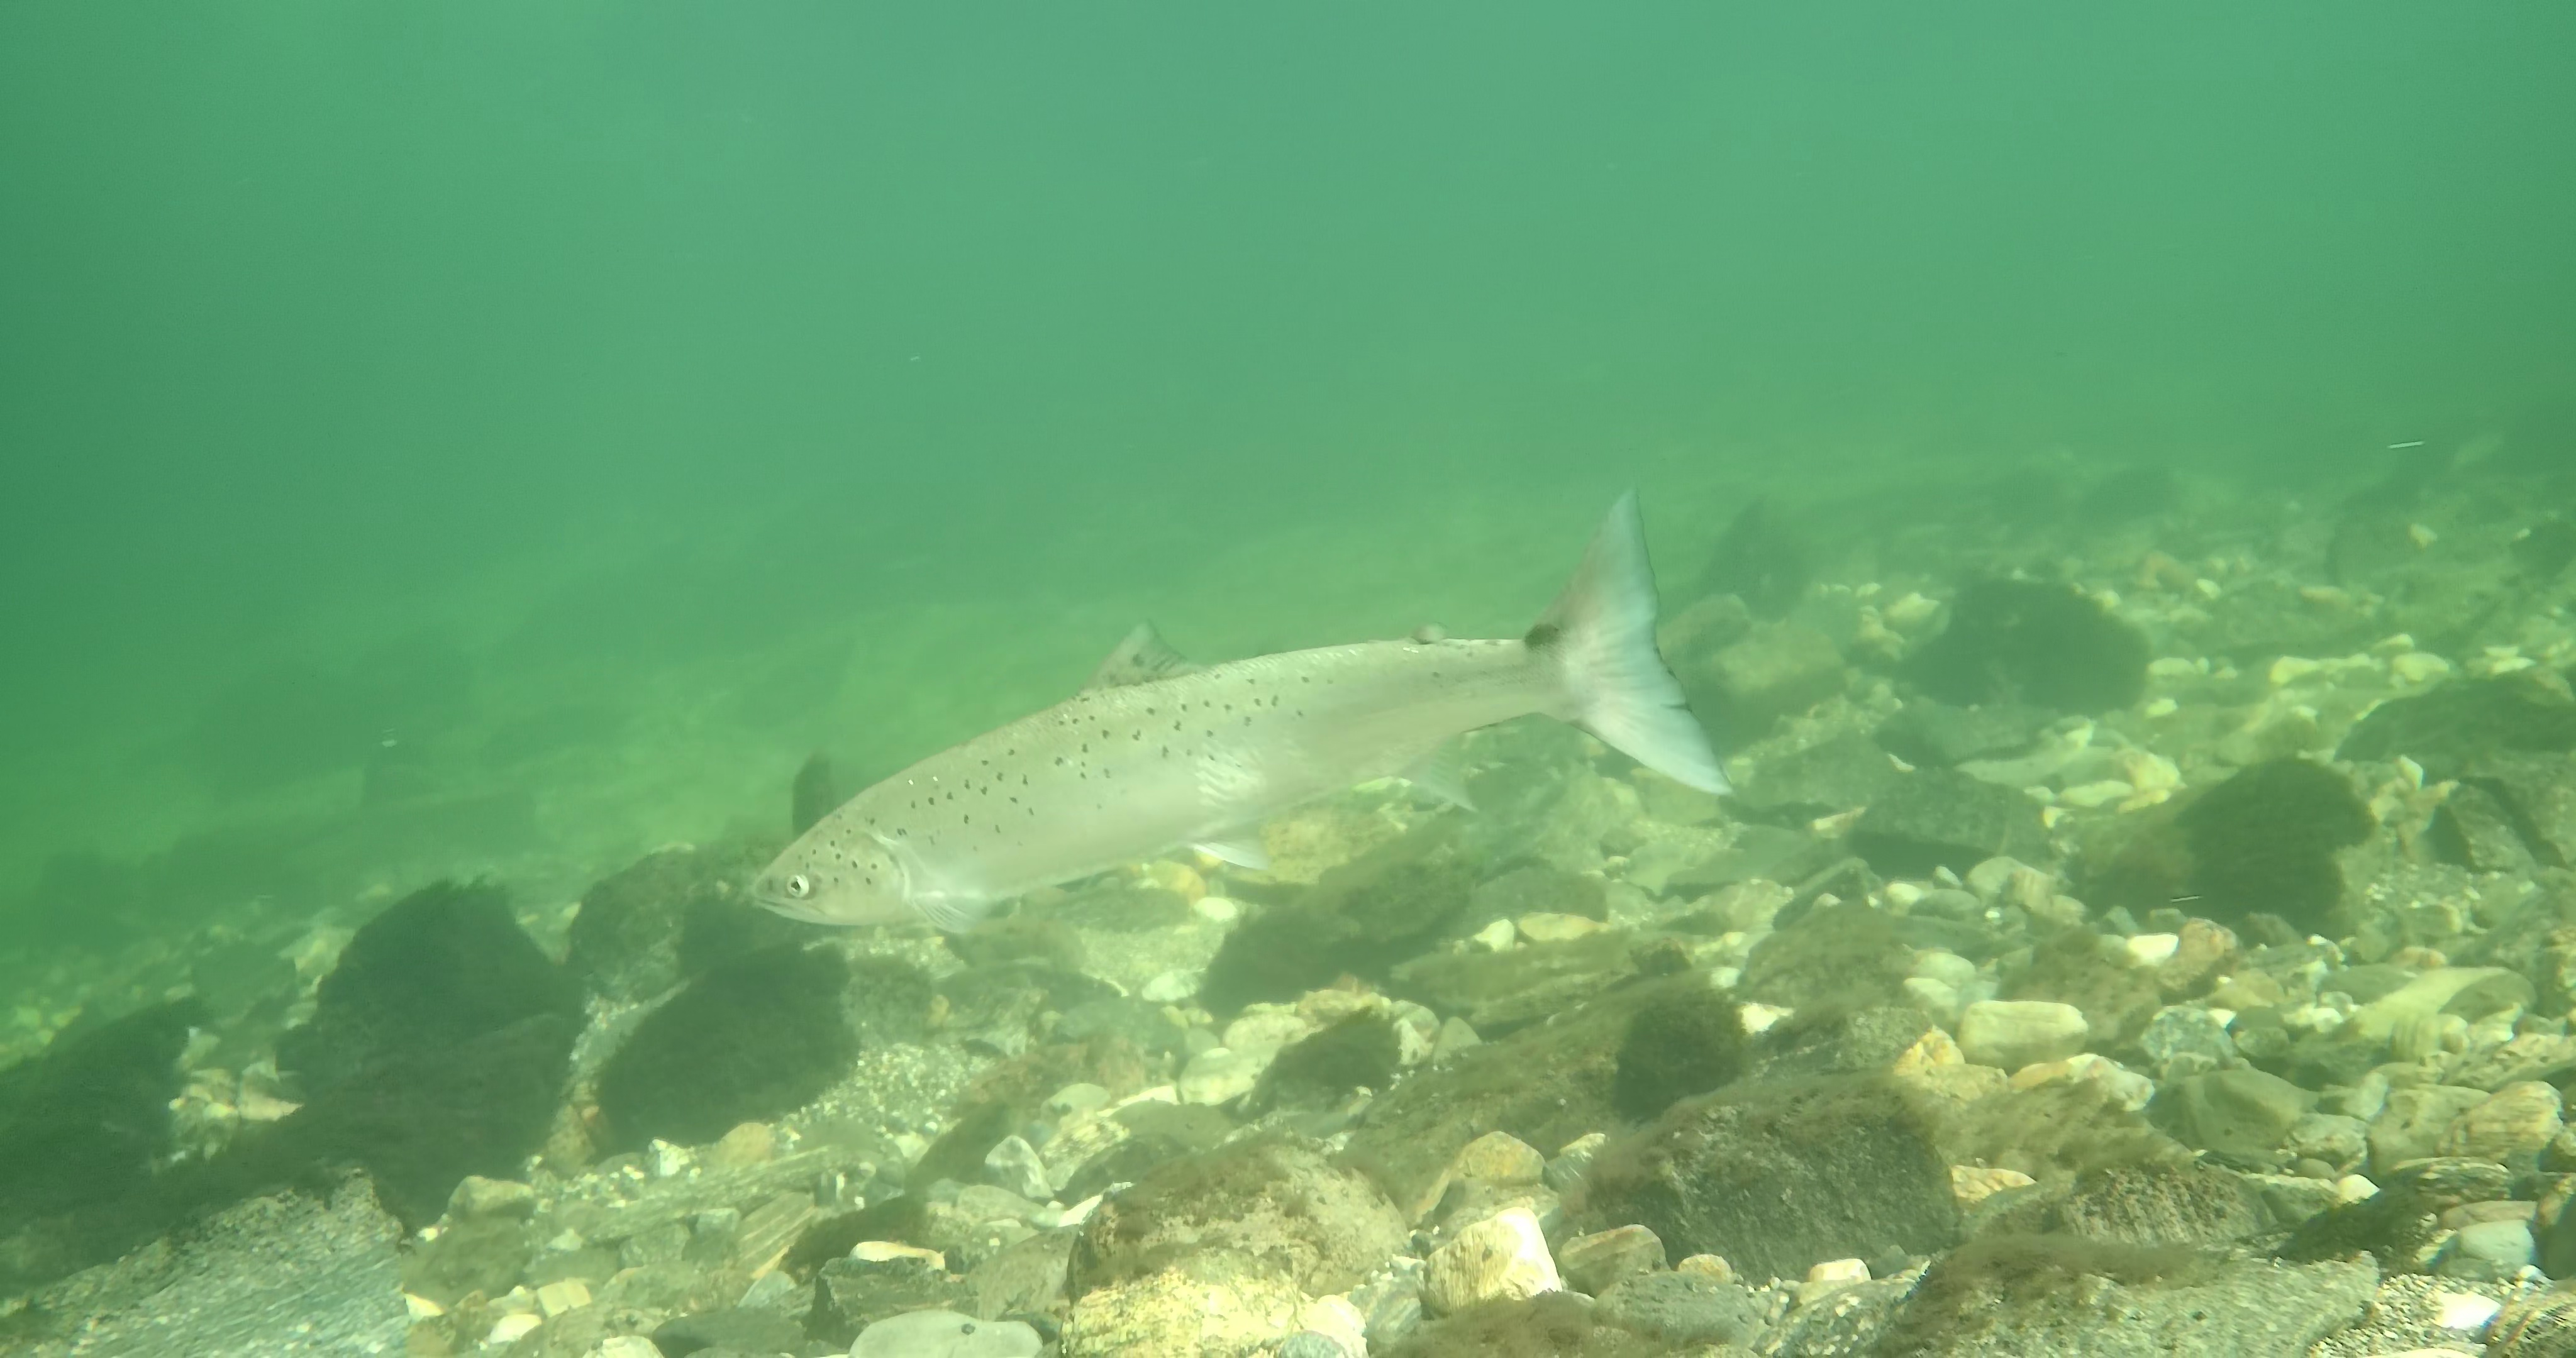salmon: (748, 480, 1738, 941)
